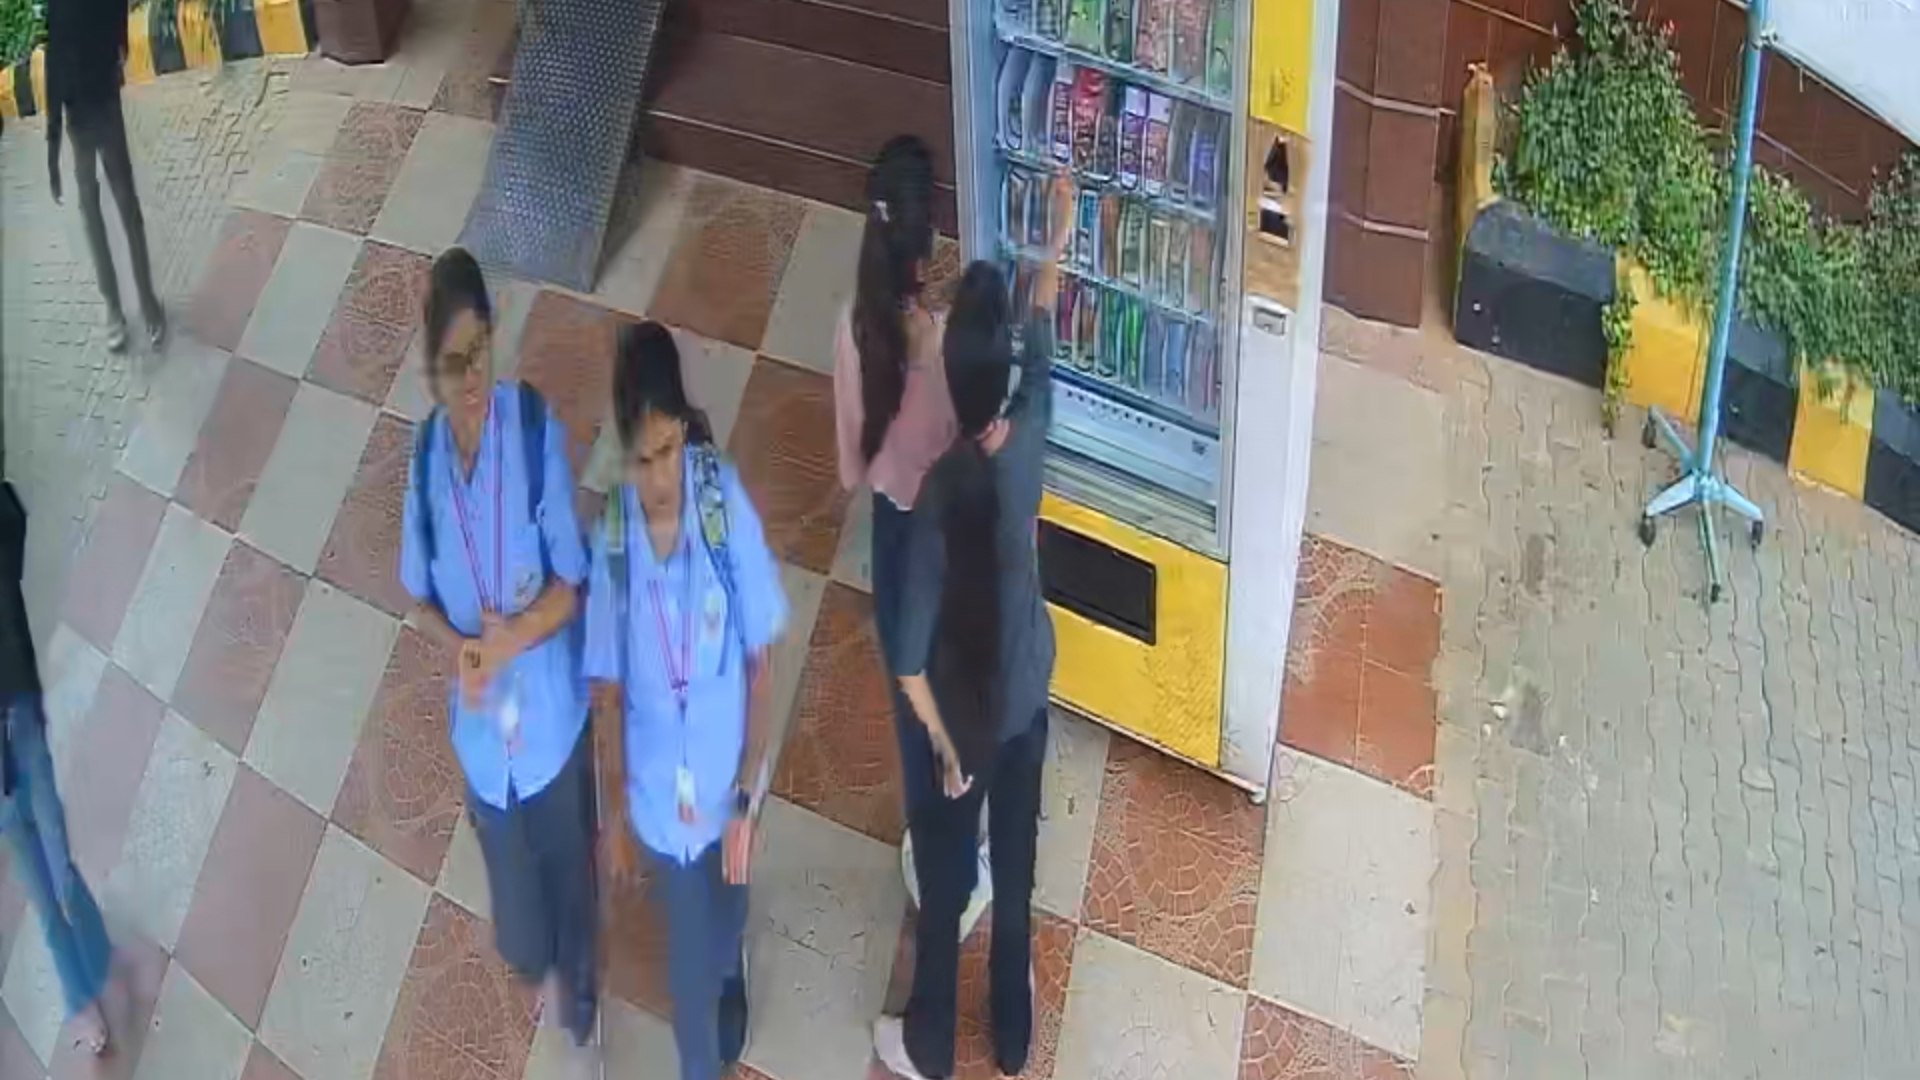not intruder: (405, 223, 603, 1080), (578, 299, 781, 1080)
